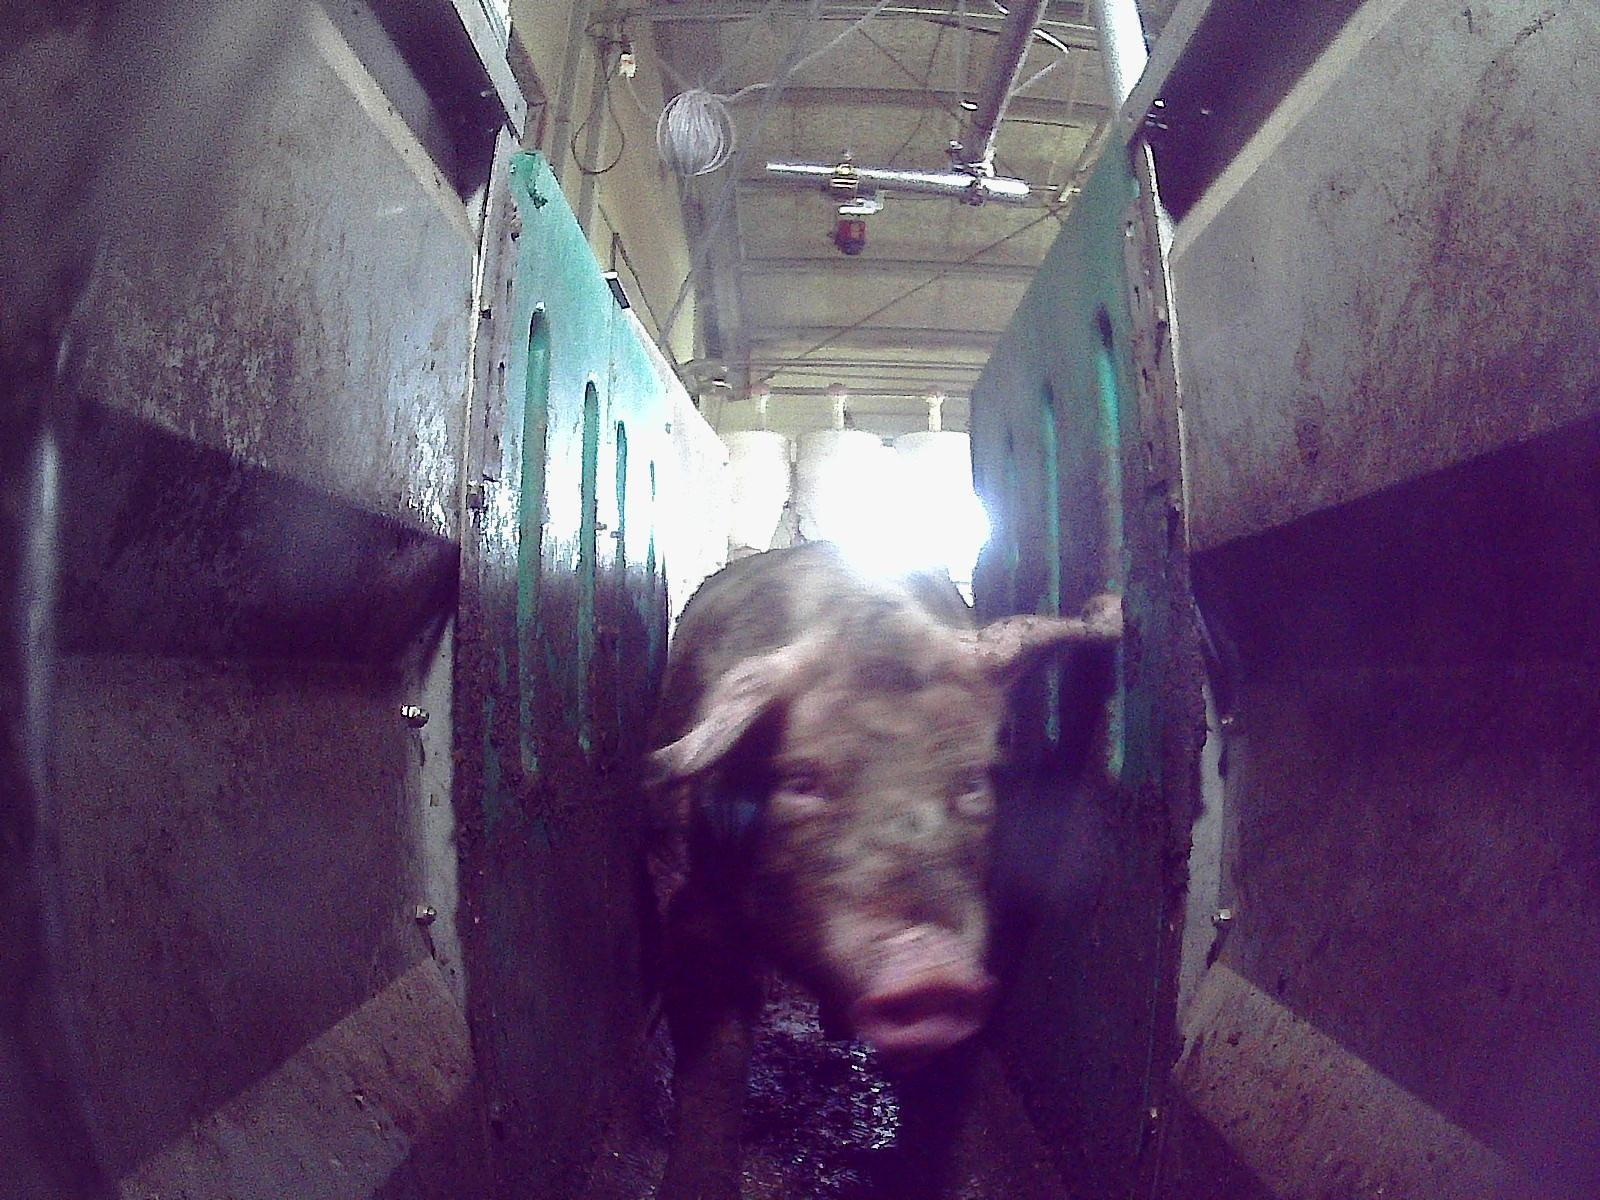Face: (746, 666, 996, 1051)
